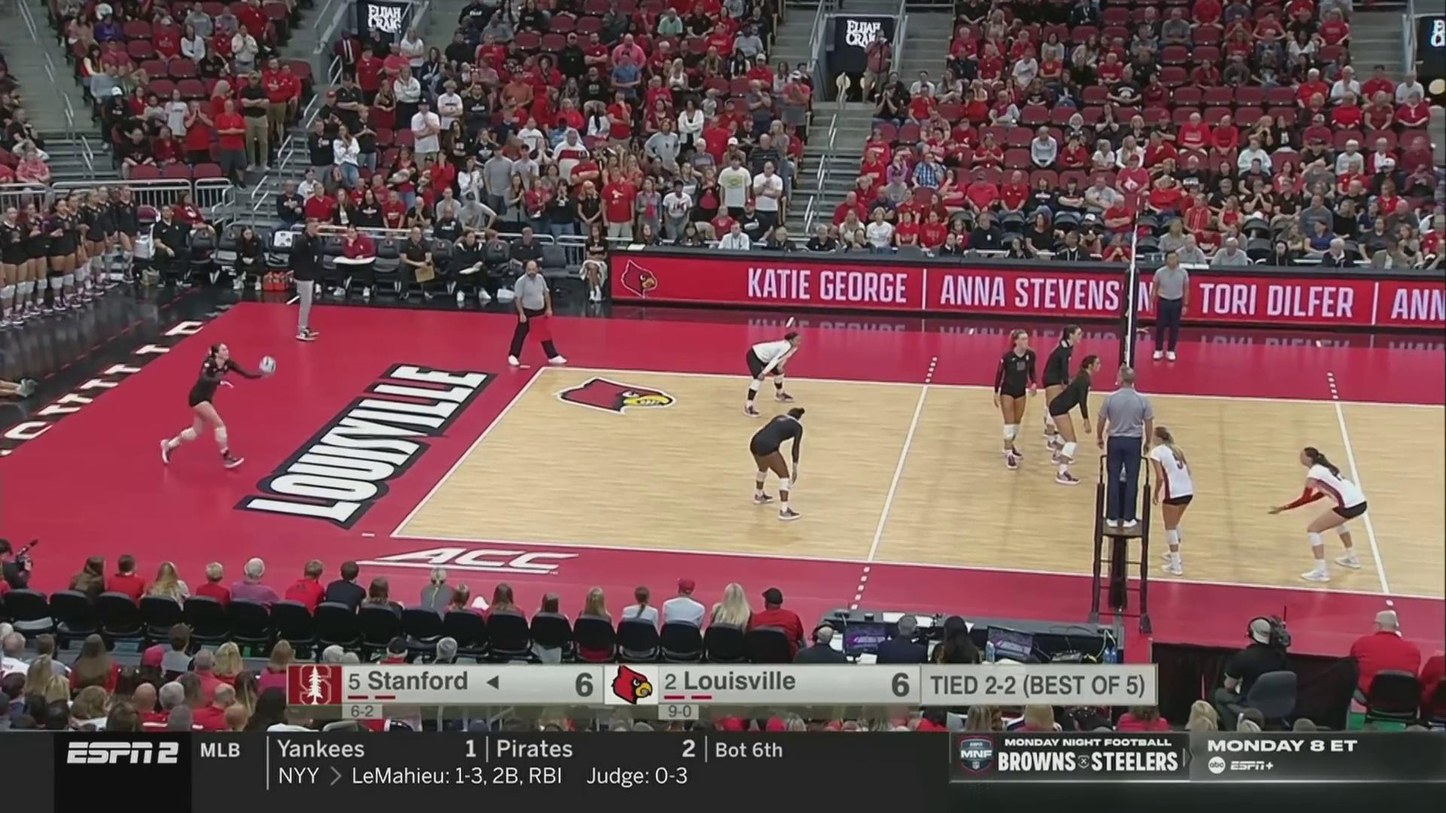player: (160, 340, 277, 468), (1272, 446, 1368, 581), (1147, 426, 1194, 575), (1047, 356, 1101, 485), (992, 331, 1038, 470), (747, 407, 803, 520), (742, 331, 801, 417), (1044, 327, 1082, 449)
refree: (1097, 367, 1152, 523), (507, 259, 565, 364), (1149, 251, 1191, 363)
